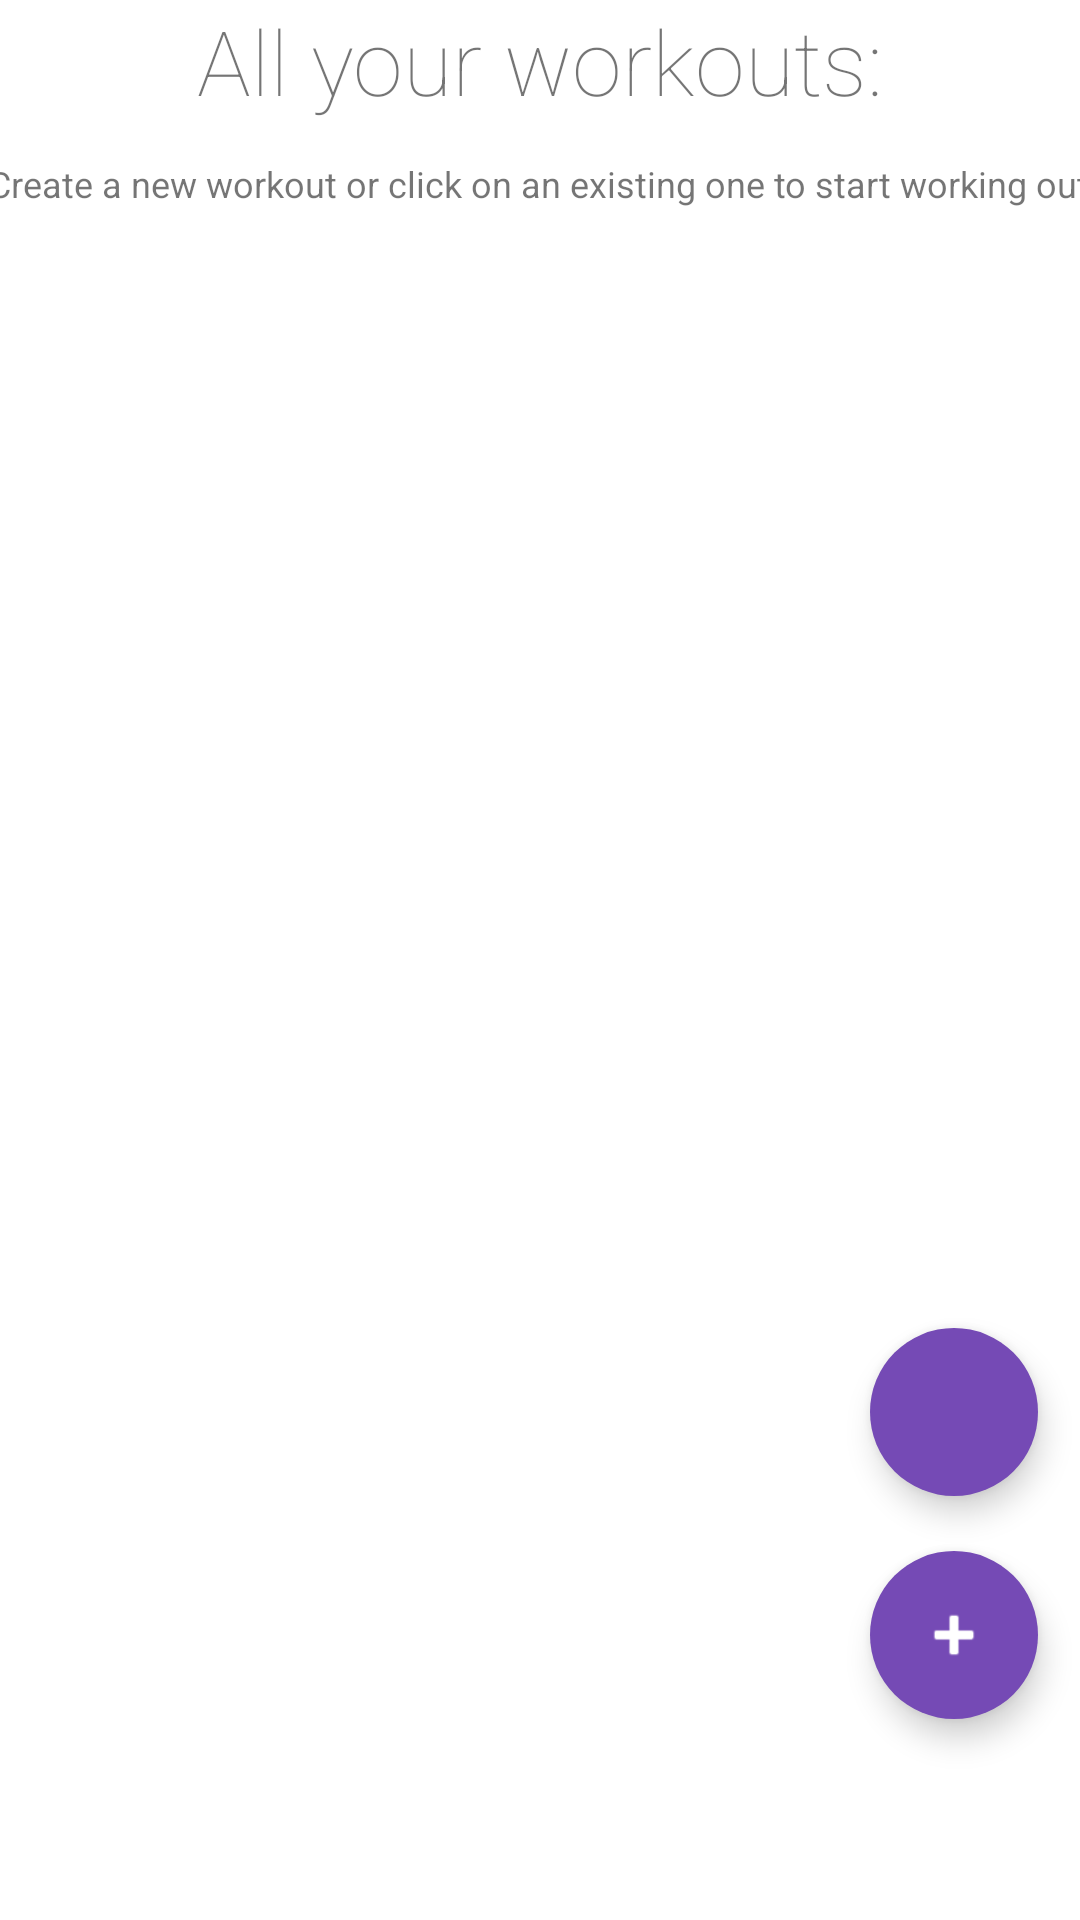

Screen size 1080px x 1920px. Icon name, then its center in pixels as (x,y):
New Workout Button: (954,1635)
